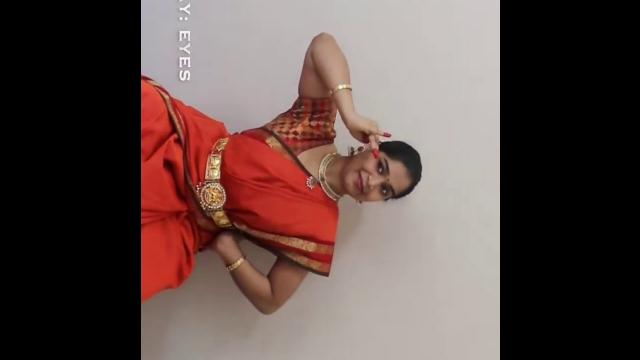chatur: (336, 108, 398, 166)
